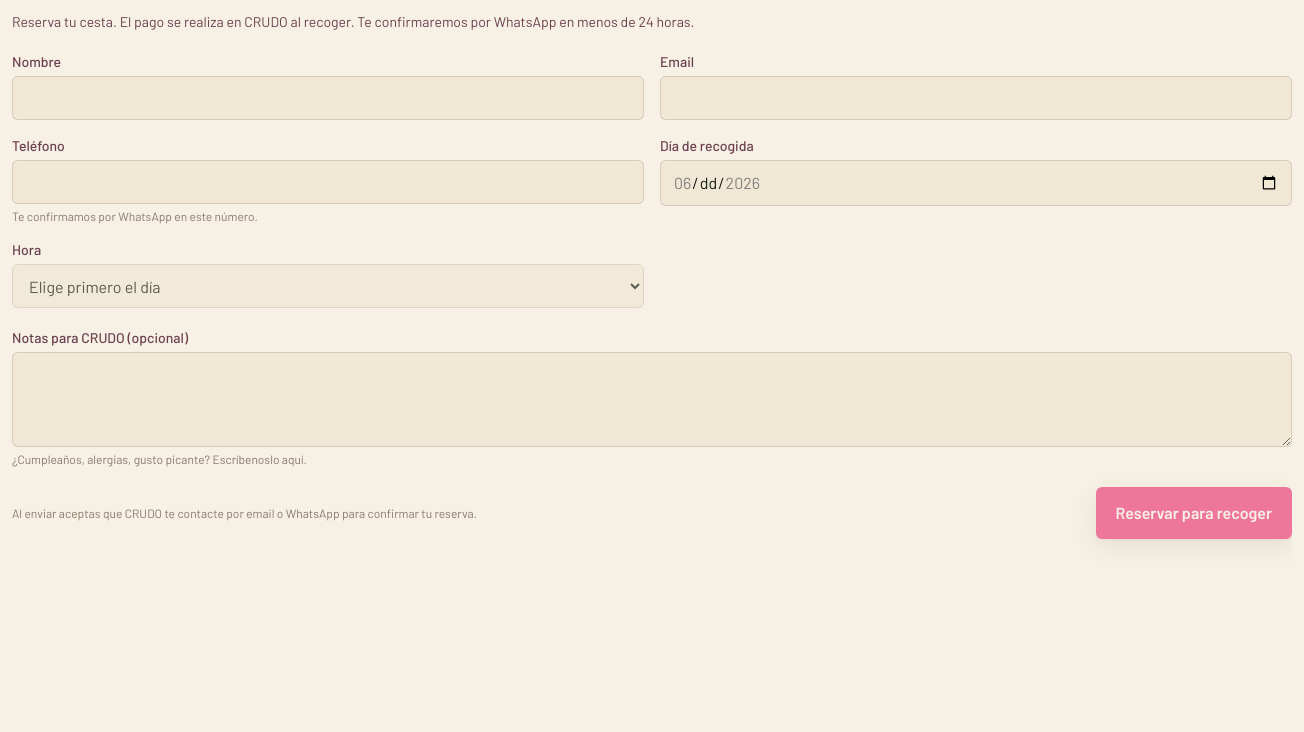
PickupForm › shows error for invalid email
The image size is (1304, 732).
Type "Ana" into the field labelled "Nombre".
click(328, 98); type("Ana")  # box [12,76,644,120]
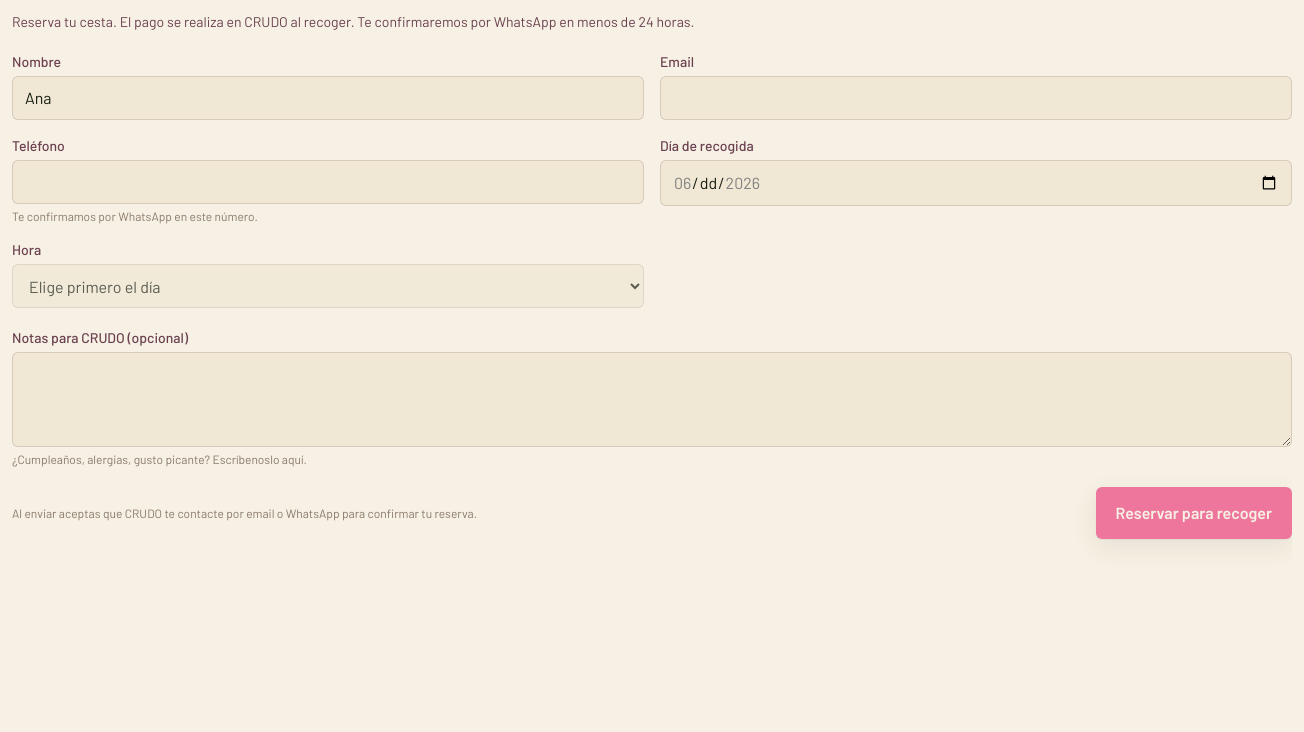
Type "no-es-email" into the field labelled "Email".
click(976, 98); type("no-es-email")  # box [660,76,1292,120]
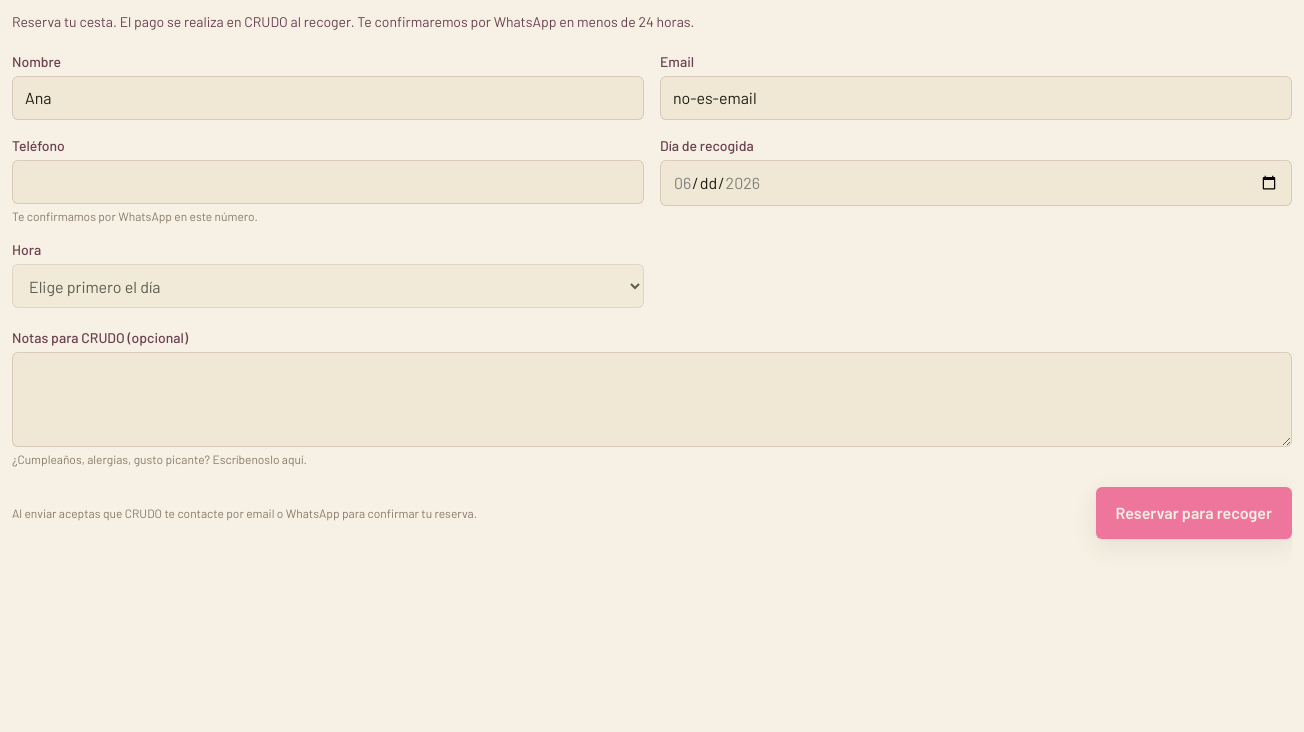
Type "+34600111222" into the field labelled "Teléfono".
click(328, 182); type("+34600111222")  # box [12,160,644,204]
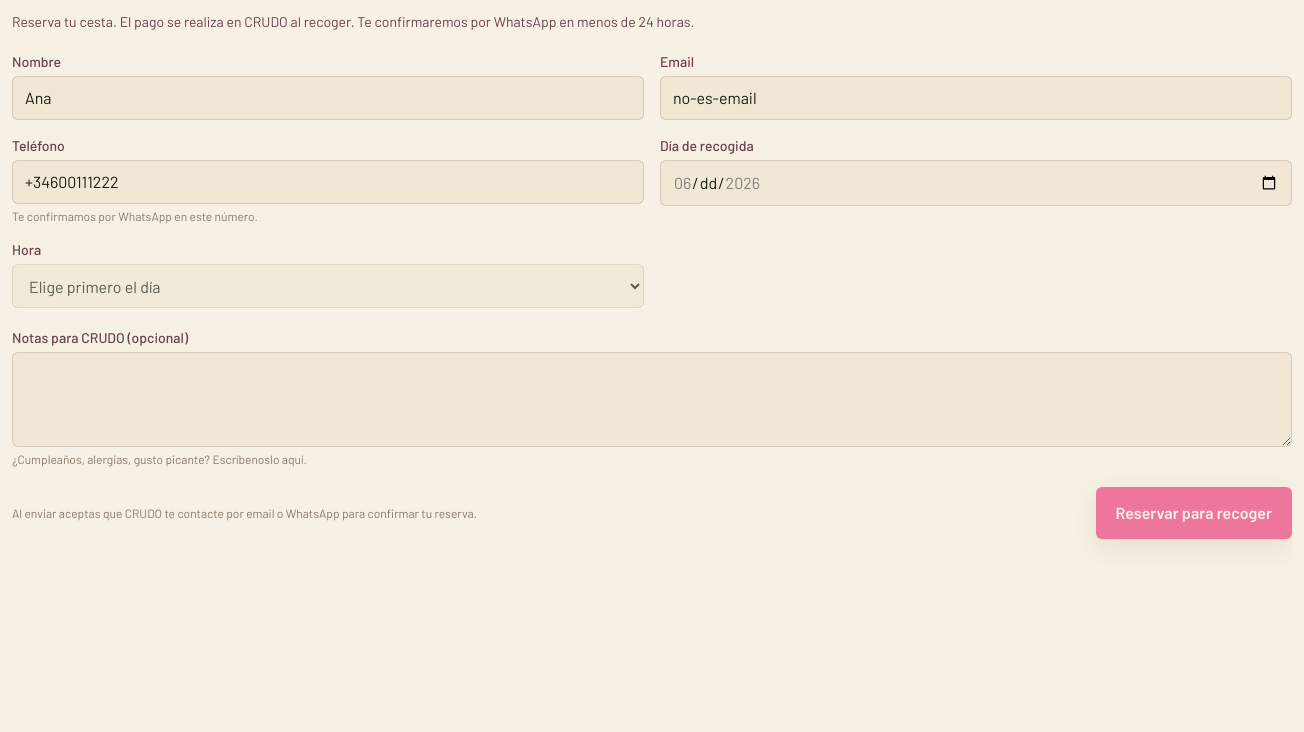
Click the button "Reservar para recoger".
click(1194, 513)  # box [1096,487,1292,539]
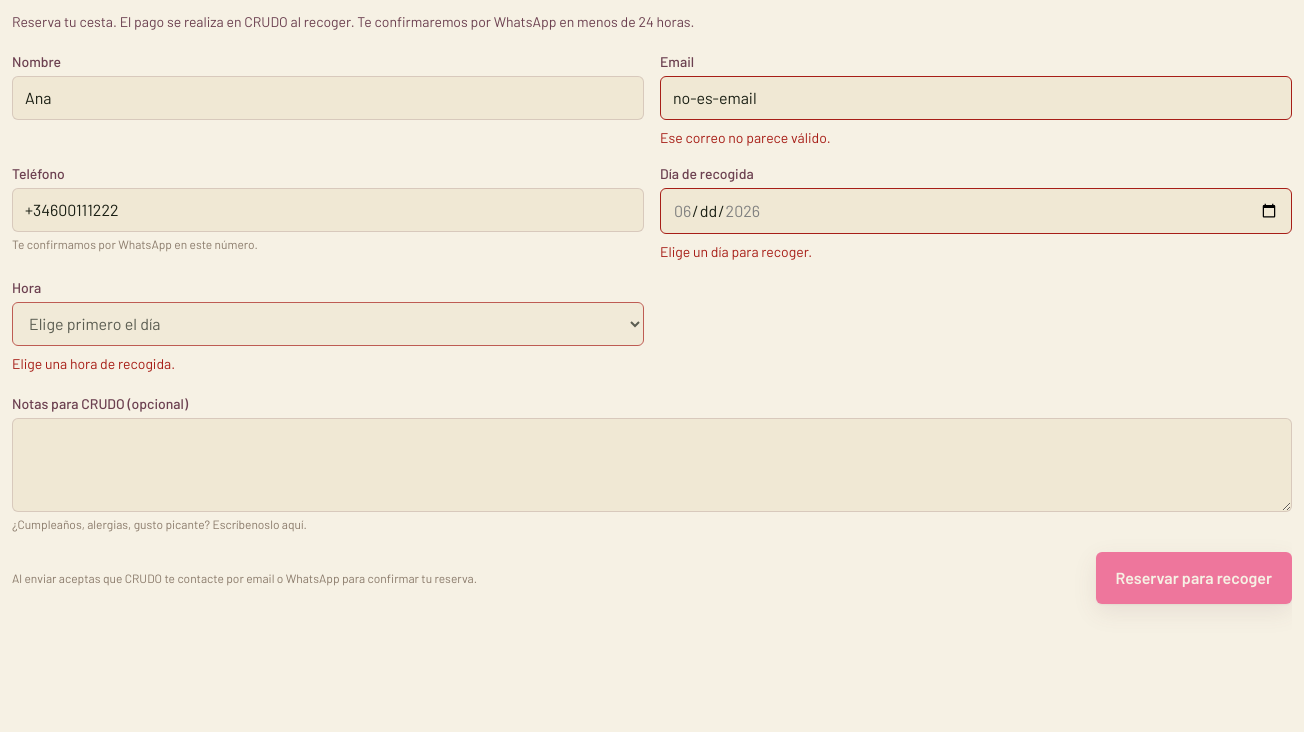
Result: the text "Ese correo no parece válido." is shown at [660,129,831,146]
